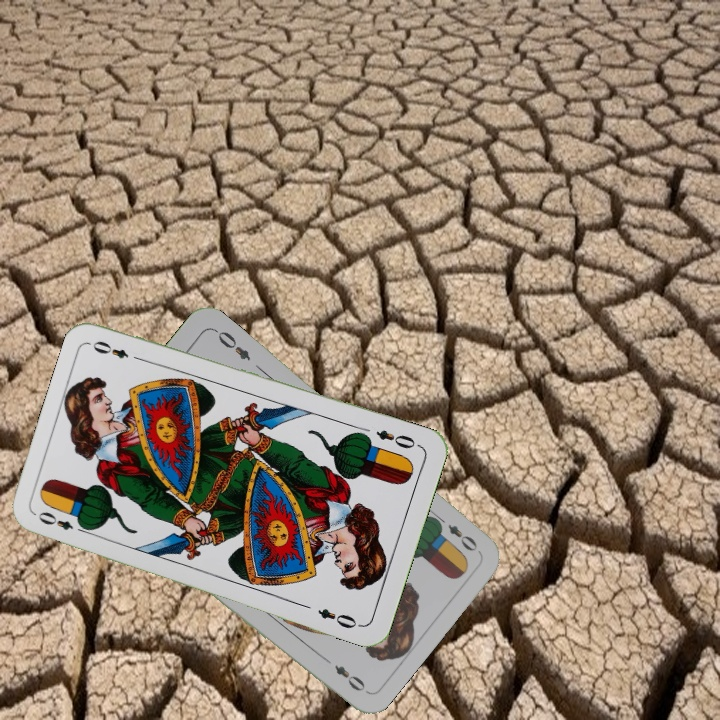EO: (431, 511, 481, 554), (34, 507, 91, 536), (372, 425, 423, 452)
